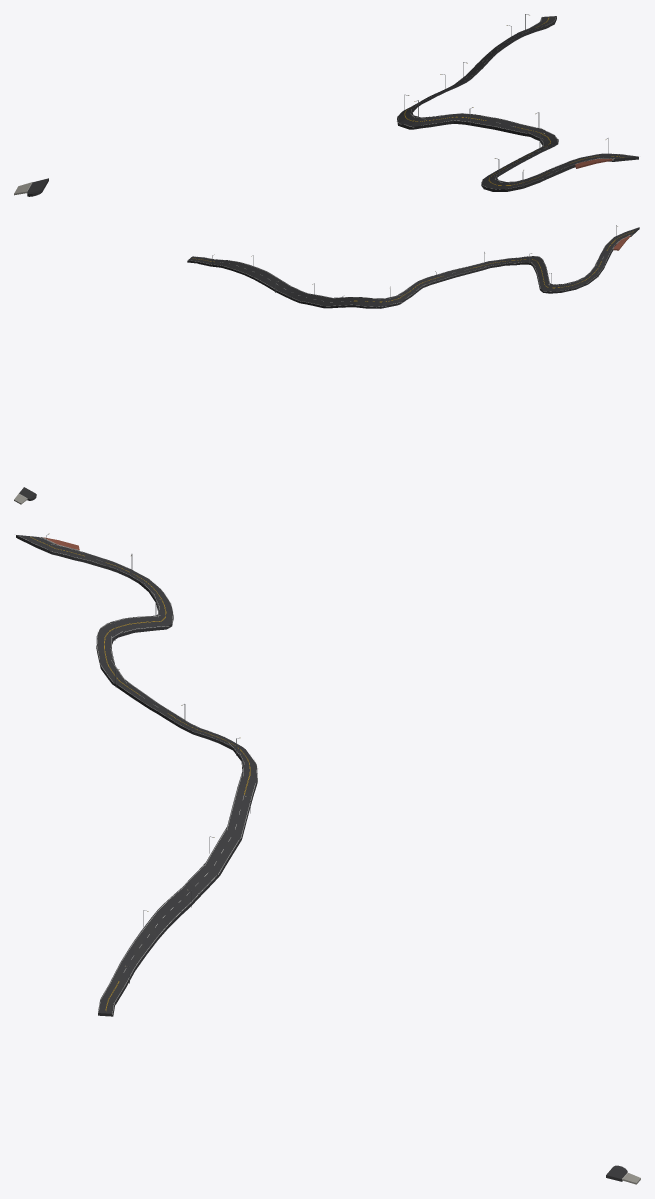
File: 17-109458-59474.27411aee.glb
3 renders of one model, top to bottom at view 1: azimuth 90°, elevation 25°; view 2: azimuth 150°, elevation 25°; view 3: azimuth 270°, elevation 25°, orthographic. The views are drawn at different scales.
Size of the model in its own units: 294 by 155 by 251.
